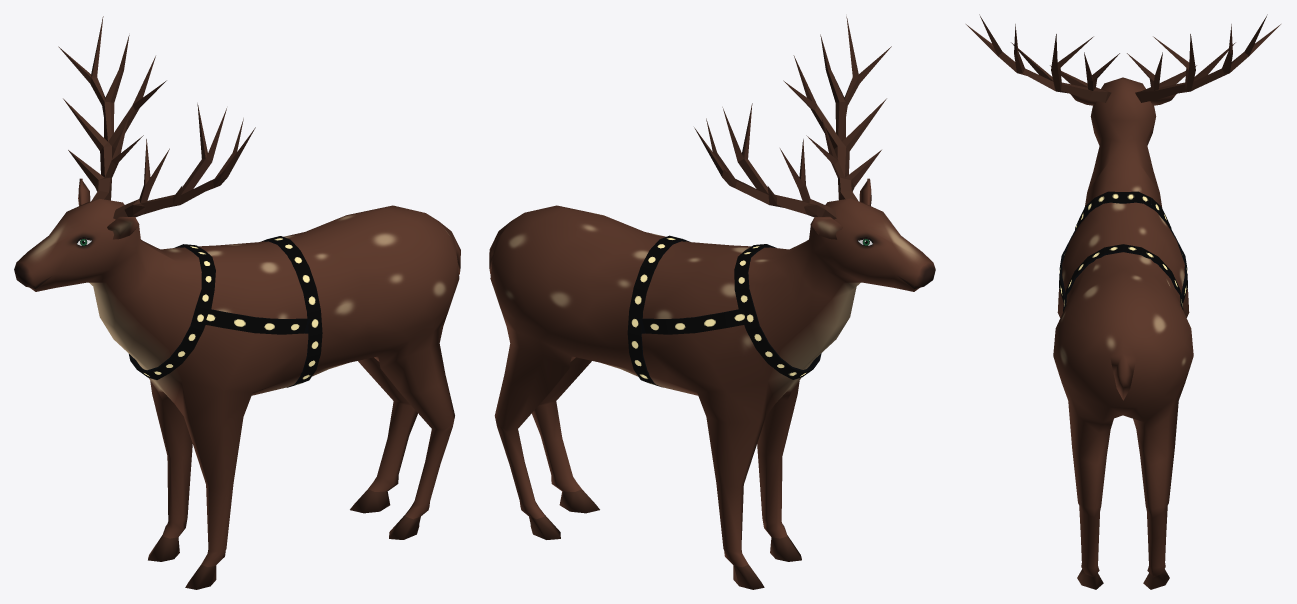
The model's file is reindeer.glb.
The picture shows the model from 3 angles, left to right: view 1: azimuth 30°, elevation 25°; view 2: azimuth 150°, elevation 25°; view 3: azimuth 270°, elevation 25°; orthographic projection. The views are drawn at different scales.
Visible parts, largest first — view 1: Reindeer; view 2: Reindeer; view 3: Reindeer.
Boxes of the visible parts, x1,y1,x2,y2 form: Reindeer: (14, 16, 460, 589); Reindeer: (489, 16, 935, 589); Reindeer: (966, 14, 1280, 589).
Size of what is drawn, in the model's own units: 2.33 by 2.52 by 1.54.
2 materials, 2 textured.
